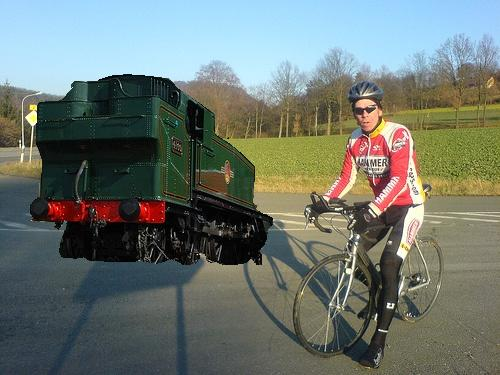tampered: (30, 75, 273, 265)
